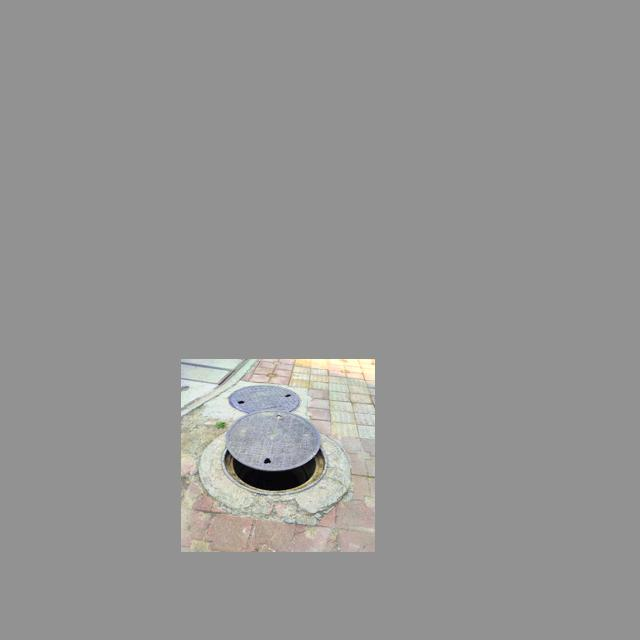good: (228, 384, 301, 414)
uncovered: (219, 409, 328, 496)
